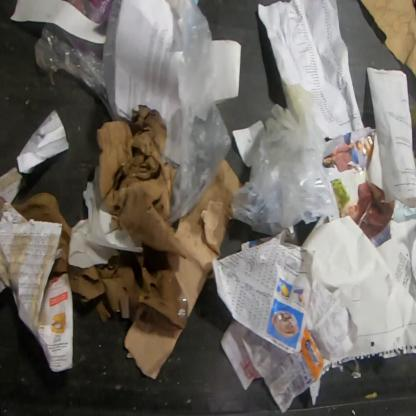cardboard: (166, 159, 242, 319), (96, 104, 176, 252), (123, 324, 184, 380)
soft_plastic: (232, 85, 342, 236), (162, 0, 233, 226), (34, 22, 111, 117), (103, 0, 123, 121), (61, 0, 113, 32)
